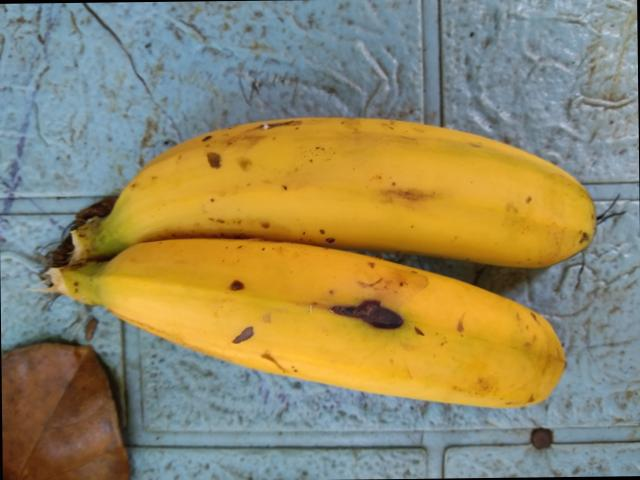freshripe: (105, 99, 600, 274)
ripe: (99, 230, 549, 471)
